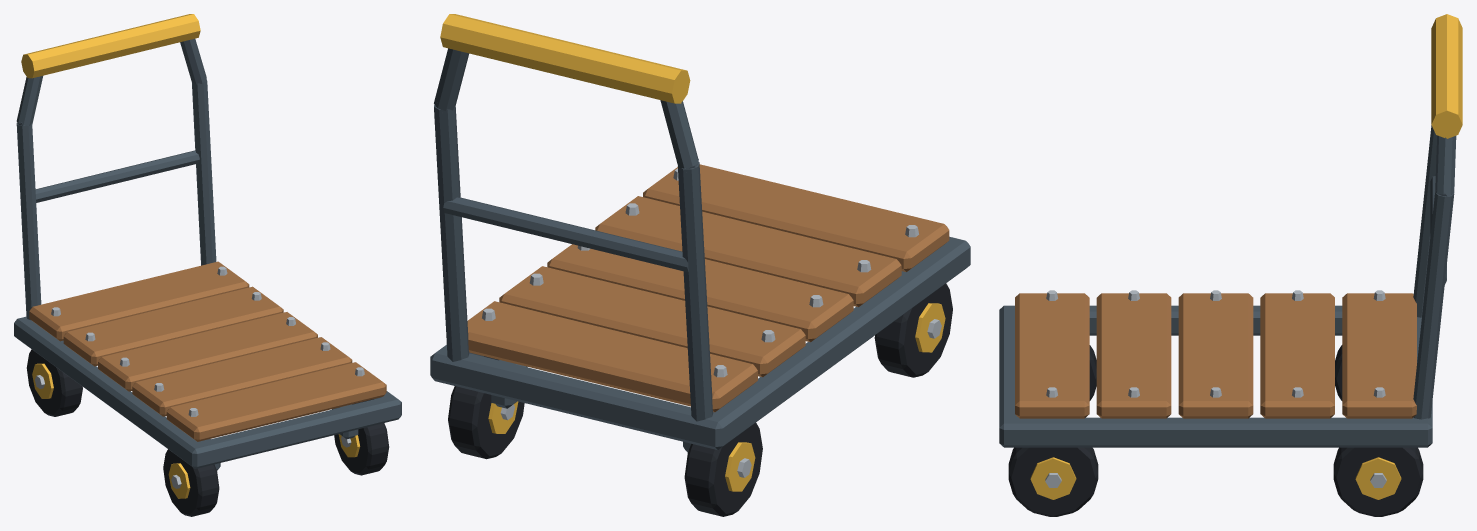
Rendered from Prop_Handcart.fbx.
3 renders of one model, left to right at view 1: azimuth 30°, elevation 25°; view 2: azimuth 150°, elevation 25°; view 3: azimuth 270°, elevation 25°, orthographic. The views are drawn at different scales.
Parts seen in each view (by area): view 1: Wood, Frame, Amber_Metal, Rubber, SteelLight; view 2: Wood, Frame, Amber_Metal, Rubber, SteelLight; view 3: Wood, Frame, Rubber, Amber_Metal, SteelLight.
Part boxes in pixels (<box>): Wood: <box>29,261,386,441</box>; Frame: <box>14,38,401,470</box>; Amber_Metal: <box>21,14,360,498</box>; Rubber: <box>26,349,389,516</box>; SteelLight: <box>35,266,364,488</box>; Wood: <box>467,164,949,412</box>; Frame: <box>430,48,970,452</box>; Amber_Metal: <box>440,14,945,491</box>; Rubber: <box>448,283,952,516</box>; SteelLight: <box>482,168,941,477</box>; Wood: <box>1015,293,1416,418</box>; Frame: <box>999,125,1456,447</box>; Rubber: <box>1008,345,1423,516</box>; Amber_Metal: <box>1030,14,1462,499</box>; SteelLight: <box>1045,290,1386,487</box>.
Size of the model in its own units: 2.4 by 3.67 by 3.85.
